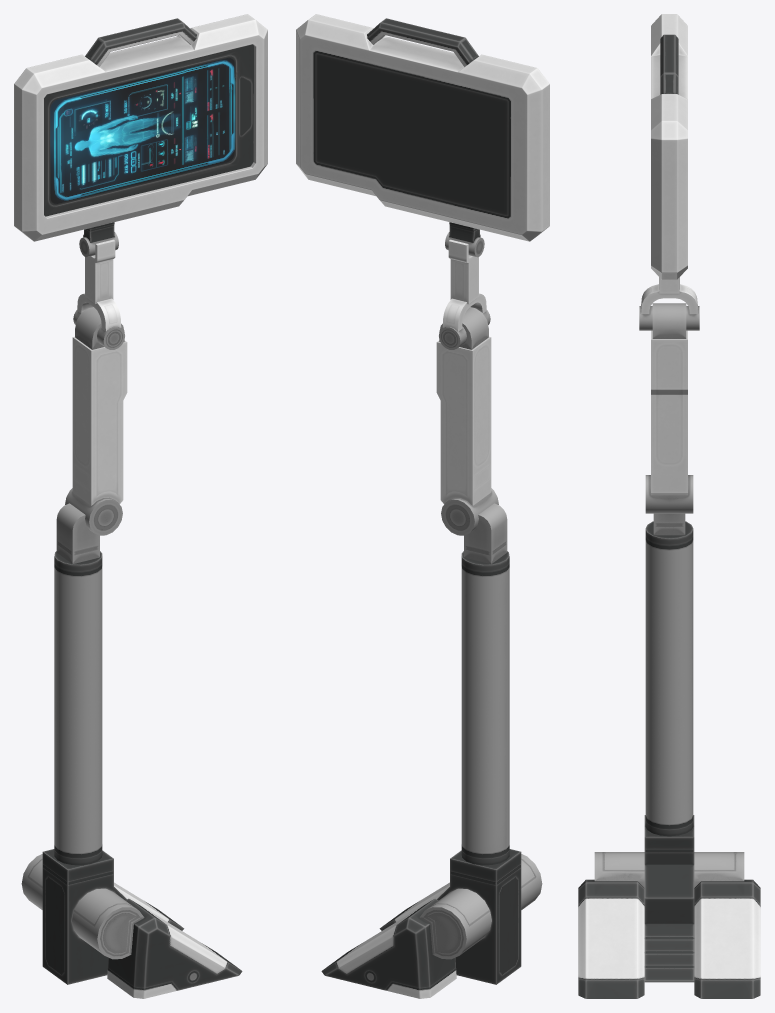
Rendered from MedDisplay01.FBX.
The picture shows the model from 3 angles, left to right: view 1: azimuth 30°, elevation 25°; view 2: azimuth 150°, elevation 25°; view 3: azimuth 270°, elevation 25°; orthographic projection.
Parts seen in each view (by area): view 1: Display, Base, Hinge1, Hinge2; view 2: Display, Base, Hinge1, Hinge2; view 3: Base, Display, Hinge1, Hinge2.
Part boxes in pixels (x1,y1,x2,y2): Display: (14,14,267,257); Base: (21,503,242,998); Hinge1: (65,307,127,535); Hinge2: (73,235,124,349); Display: (296,14,549,257); Base: (321,503,542,998); Hinge1: (436,307,498,535); Hinge2: (439,235,490,349); Base: (578,513,760,998); Display: (651,14,687,279); Hinge1: (645,303,693,513); Hinge2: (639,277,699,330).
Size of what is drawn, in the model's own units: 0.5306 by 1.91 by 0.3439.
